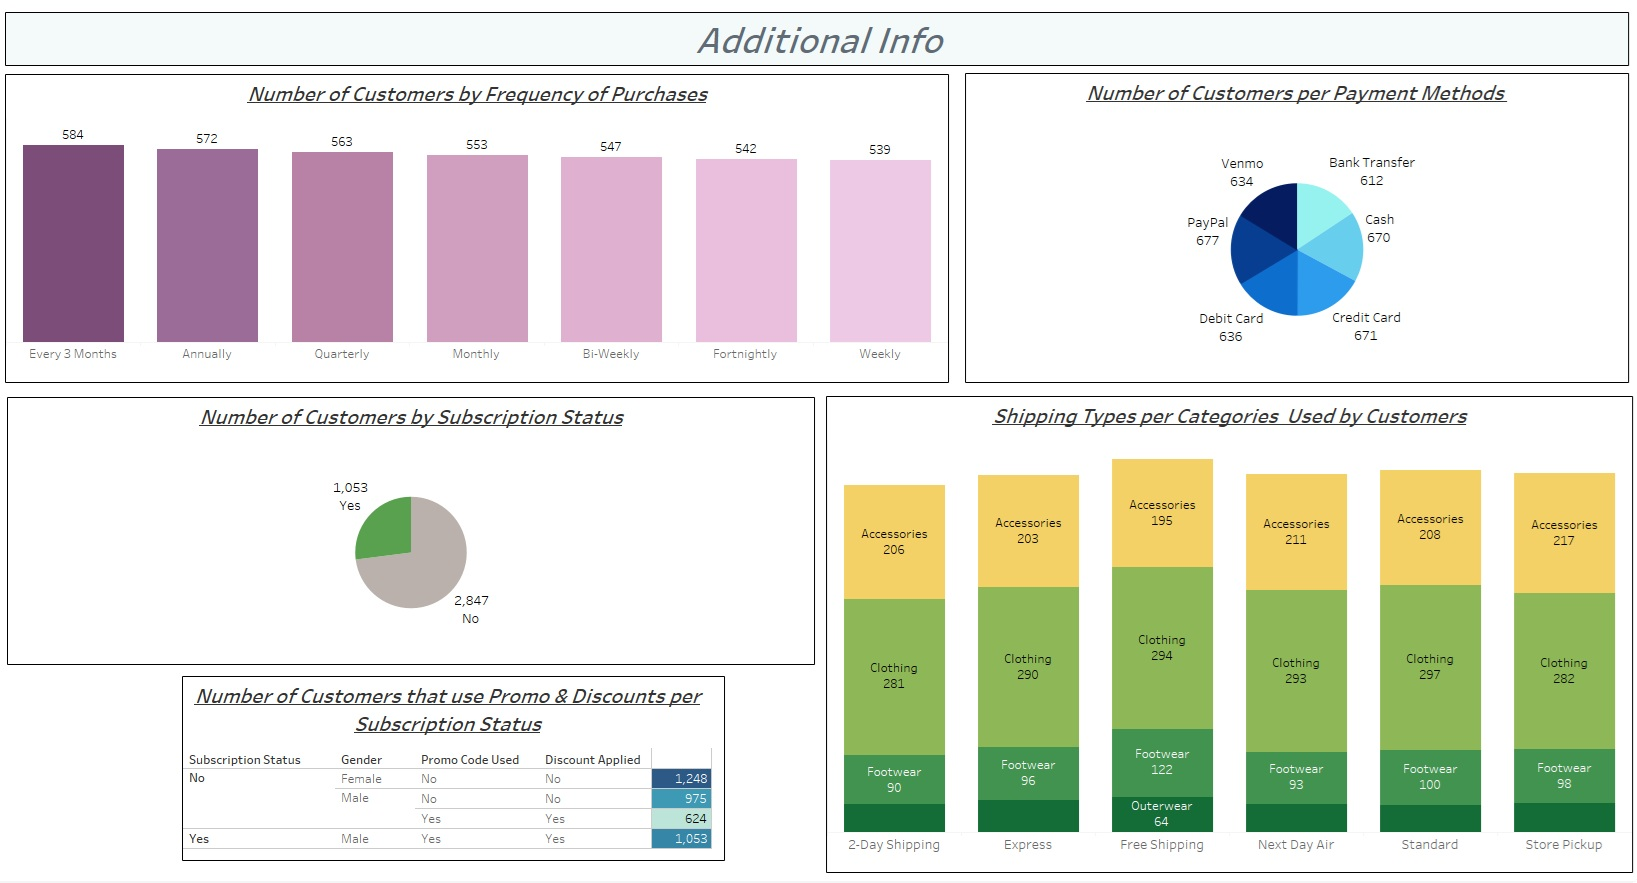

The page's visual inventory and layout, read from the dashboard file:
{"tool":"tableau","page":{"name":"Dashboard 5","canvas":[1654,890],"ordinal":4},"visuals":[{"type":"text","box":[13,21,1624,54]},{"type":"worksheet","title":"Payment Methods","mark":"Pie","box":[973,82,664,310]},{"type":"worksheet","title":"Frequency  of Purchases","mark":"Automatic","rows":["Customer_ID"],"cols":["Frequency_of_Purchases"],"box":[13,83,944,309]},{"type":"worksheet","title":"Shipping Types per Categories  ","mark":"Automatic","rows":["Customer_ID"],"cols":["Shipping_Type"],"box":[834,405,807,477]},{"type":"worksheet","title":"Subscriptions","mark":"Pie","box":[15,406,808,268]},{"type":"worksheet","title":"Promo & Discounts per Subscription Status","mark":"Square","rows":["Subscription_Status","Gender","Promo_Code_Used","Discount_Applied"],"box":[190,685,543,185]}]}

Visuals, with their boxes in screenshot pixels (x1, y1, x2, y2), scaled from the page's 1654x890 canvas onto the 1637x883 screenshot:
text: 13:21:1620:74
"Payment Methods" worksheet (Pie marks): 963:81:1620:389
"Frequency  of Purchases" worksheet: 13:82:947:389
"Shipping Types per Categories  " worksheet: 825:402:1624:875
"Subscriptions" worksheet (Pie marks): 15:403:815:669
"Promo & Discounts per Subscription Status" worksheet (Square marks): 188:680:725:863
